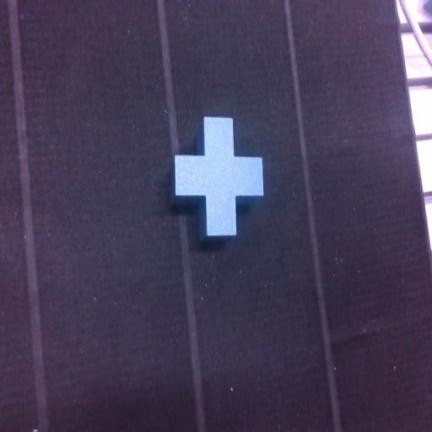cross: (173, 118, 263, 238)
